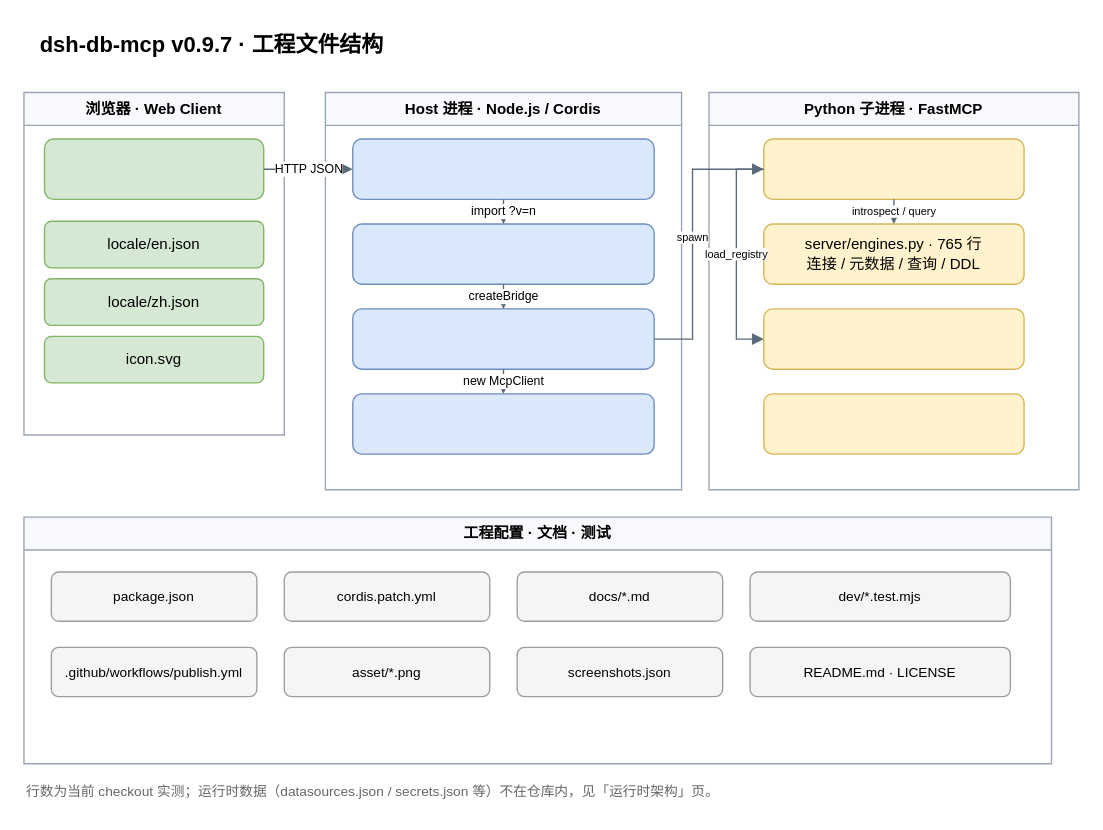
Some shapes in this 1103 by 830 pixel diagram are drawn without their labels. The centre of each missing label's shape, as x and y in pixels:
client.js 面板 UI · 5021 行: pixel 153 168
index.js · 109 行 Cordis 入口 · 2 条路由: pixel 502 168
server/main.py · 351 行 FastMCP · 8 个工具: pixel 893 168
server/requirements.txt mcp · psycopg · PyMySQL …: pixel 893 423
server/store.py · 98 行 读取注册表: pixel 893 338
src/host.js · 2058 行 注册表 / 导入 / 探测 / 设置 / 审计: pixel 502 253
src/mcp.js · 308 行 stdio JSON-RPC 客户端: pixel 502 423
src/tools.js · 744 行 spawn Python · 发布工具: pixel 502 338
